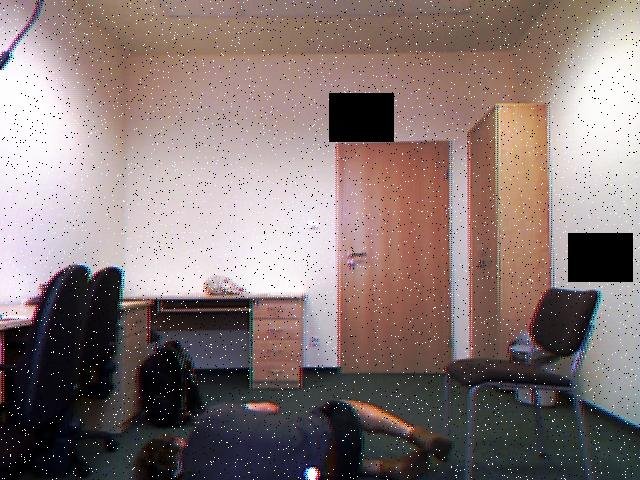fall: (134, 394, 469, 480)
